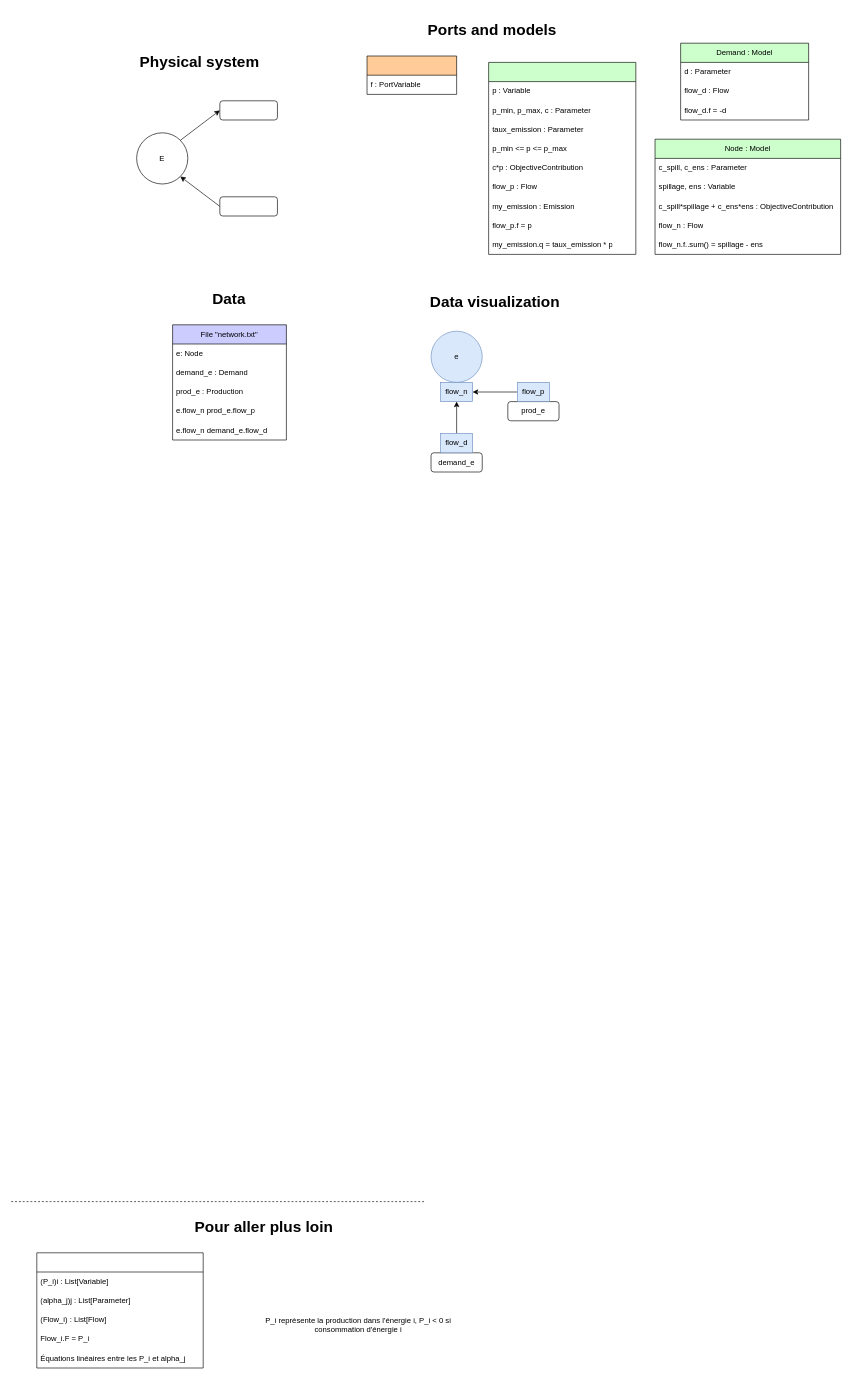
Image size: 852x1379. Some labels were removed from this diagram. Here are the shapes that lost their labels. From the top down, the box of each, then its label:
(366, 55, 457, 94): Flow : PortType
(219, 100, 277, 120): Elec demand
(488, 62, 636, 254): Production : Model
(219, 196, 277, 216): Elec production
(36, 1252, 203, 1368): "Méta" Convertisseur à n pattes
